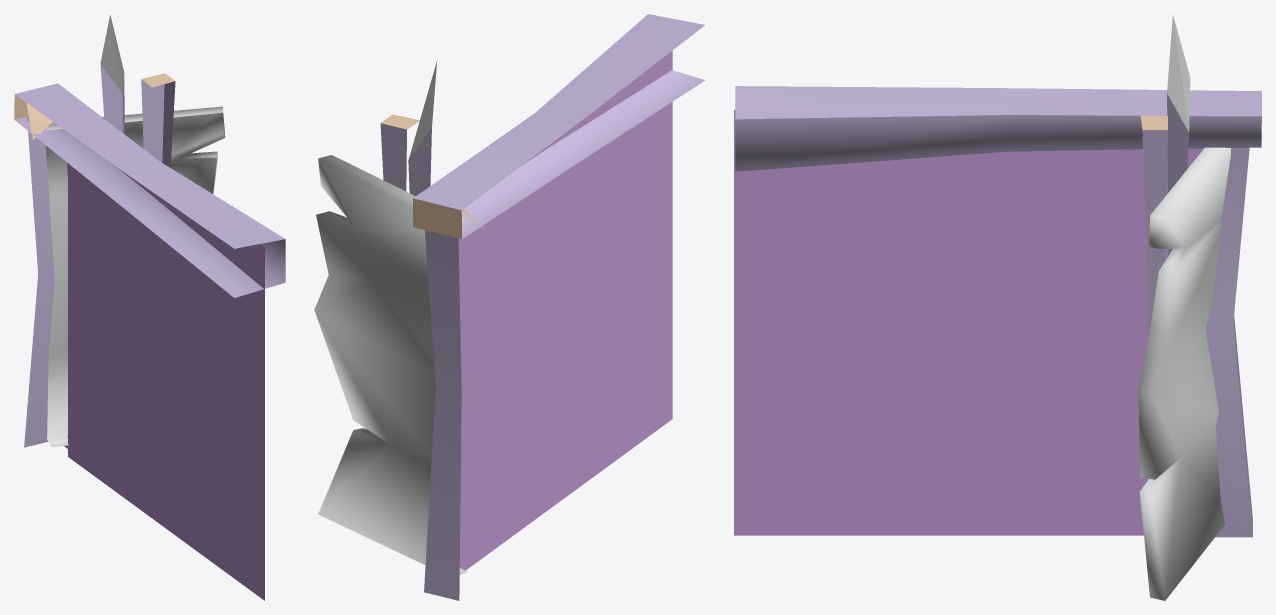
3 renders of one model, left to right at view 1: azimuth 30°, elevation 25°; view 2: azimuth 150°, elevation 25°; view 3: azimuth 270°, elevation 25°, orthographic. The views are drawn at different scales.
Parts seen in each view (by area): view 1: Object26; view 2: Object26; view 3: Object26.
Part boxes in pixels (<box>): Object26: <box>14,15,285,600</box>; Object26: <box>314,14,705,600</box>; Object26: <box>734,15,1261,600</box>.
Bounding box in the file's own units: 12608 × 30113 × 26768.
